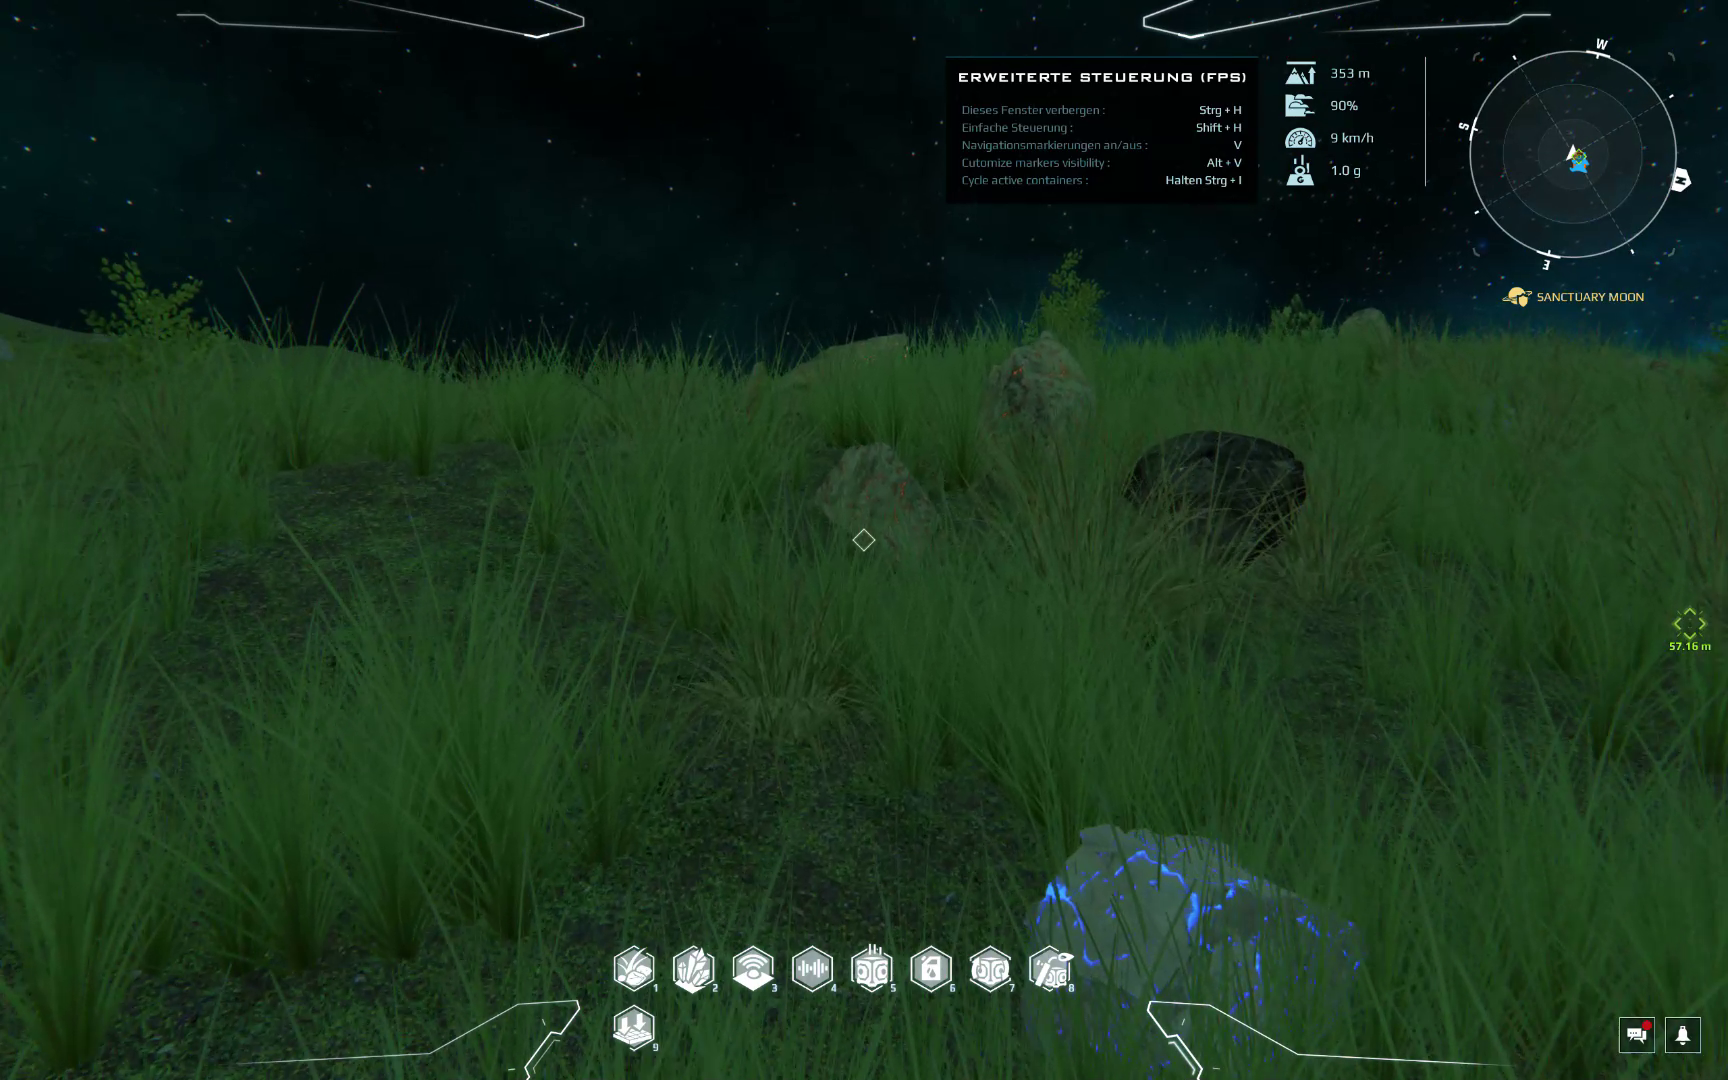Ore: (1026, 821, 1365, 1076), (977, 330, 1095, 530), (1126, 431, 1310, 538), (815, 445, 938, 555), (789, 328, 911, 389)
